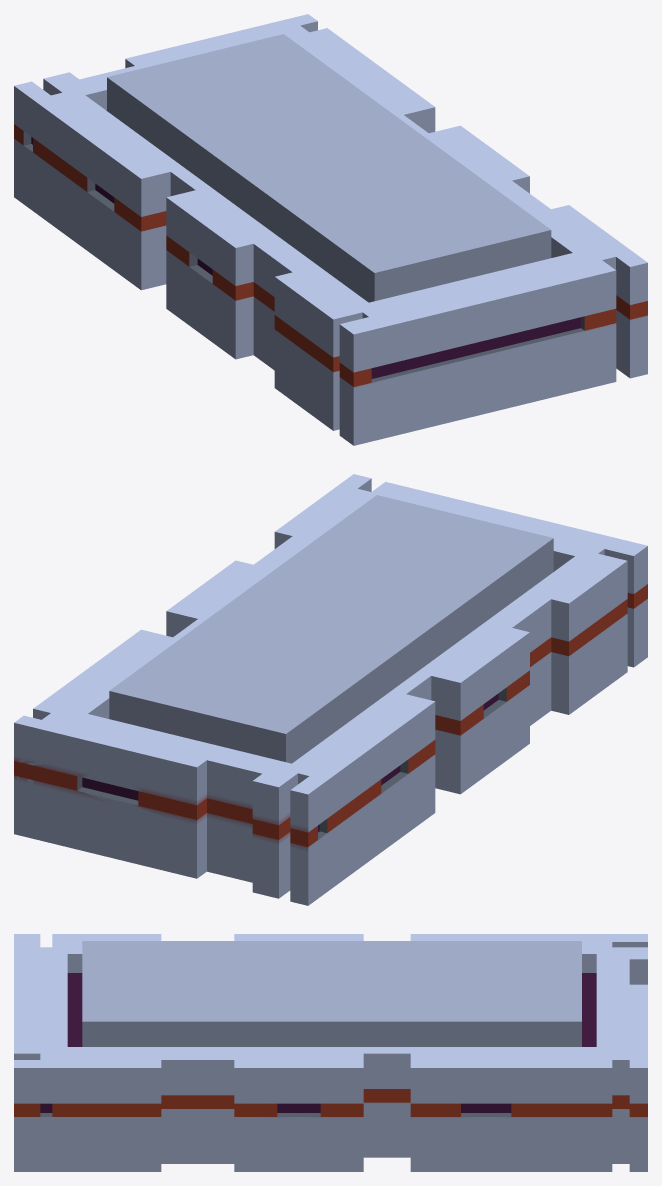
Rendered from Bridge_2.fbx.
3 renders of one model, top to bottom at view 1: azimuth 30°, elevation 25°; view 2: azimuth 150°, elevation 25°; view 3: azimuth 270°, elevation 25°, orthographic. The views are drawn at different scales.
Visible parts, largest first — view 1: Cube.028; view 2: Cube.028; view 3: Cube.028.
Part boxes in pixels (x1,y1,x2,y2): Cube.028: (14,14,647,445); Cube.028: (14,474,647,905); Cube.028: (14,934,647,1171).
Size of the model in its own units: 100 by 42.86 by 200.
